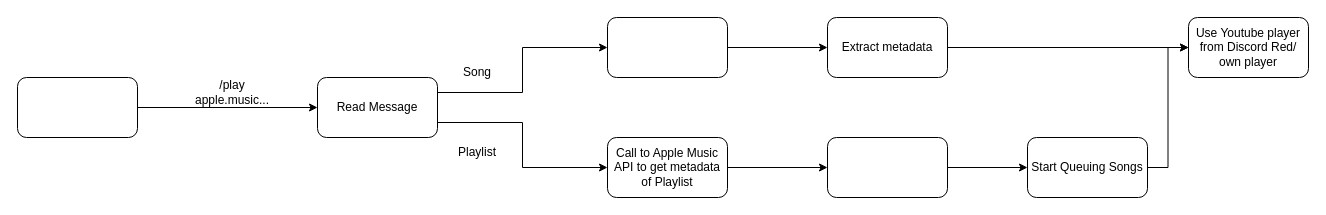
Some shapes in this 1326 by 215 pixel diagram are drawn without their labels. The shapes that lost their labels are listed below. From the top down, each one's centre as x and y in pixels, then its label:
pixel 667 47: Call to Apple Music API to get metadata of song
pixel 77 107: Discord Chat
pixel 887 167: Extract Metadata (List with songs)
